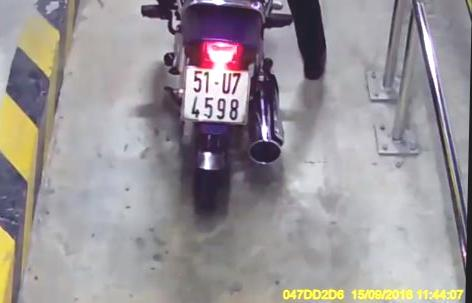License_Plate: (178, 62, 252, 133)
